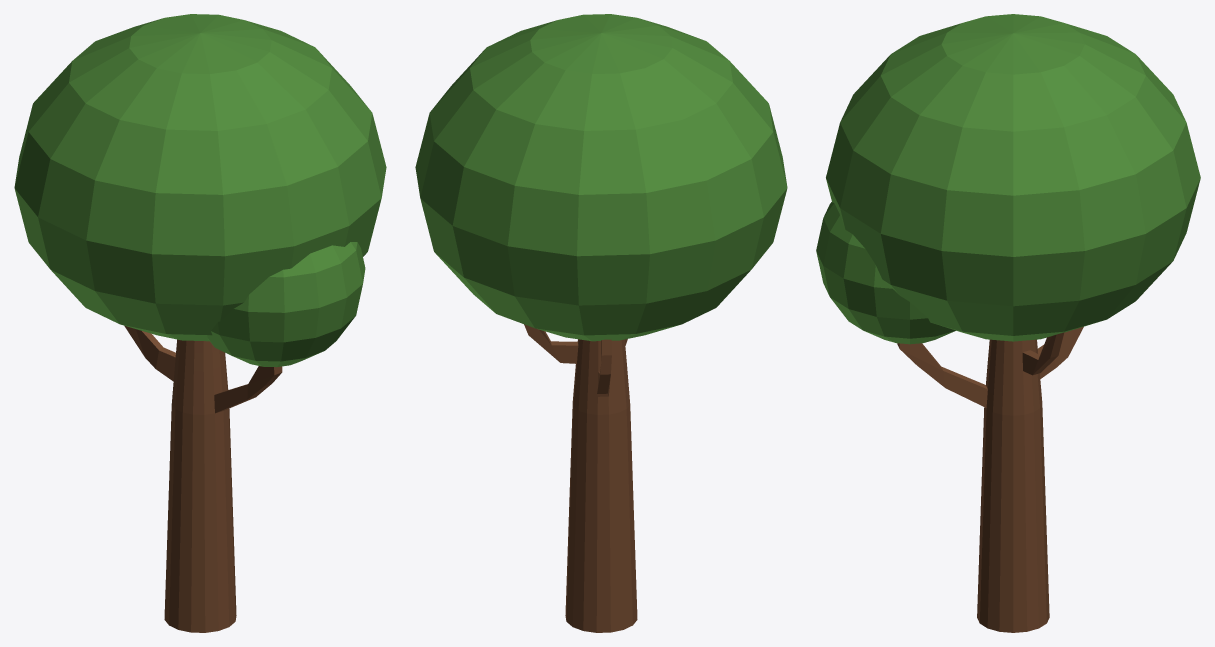
Rendered from obstacle_tree_4.fbx.
The picture shows the model from 3 angles, left to right: view 1: azimuth 30°, elevation 25°; view 2: azimuth 150°, elevation 25°; view 3: azimuth 270°, elevation 25°; orthographic projection.
Visible parts, largest first — view 1: Cylinder; view 2: Cylinder; view 3: Cylinder.
Part boxes in pixels (<box>): Cylinder: <box>14,14,386,632</box>; Cylinder: <box>415,14,787,632</box>; Cylinder: <box>816,14,1200,632</box>.
Size of the model in its own units: 400 by 688 by 410.
